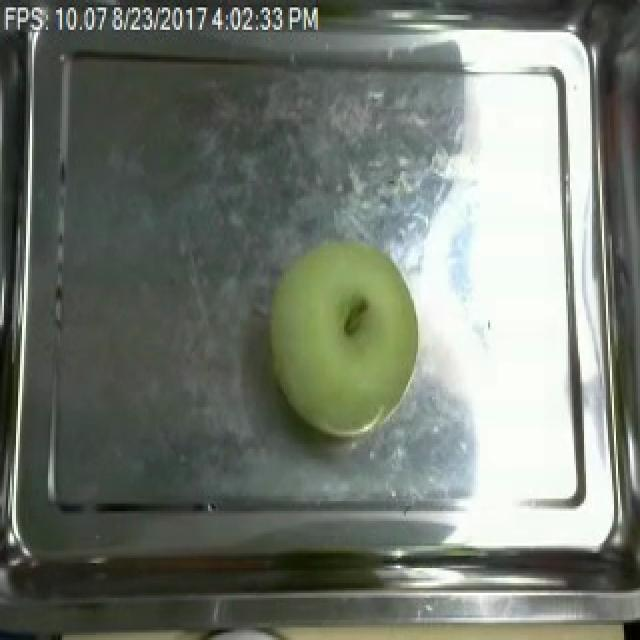50-_ripeness: (258, 232, 427, 438)
